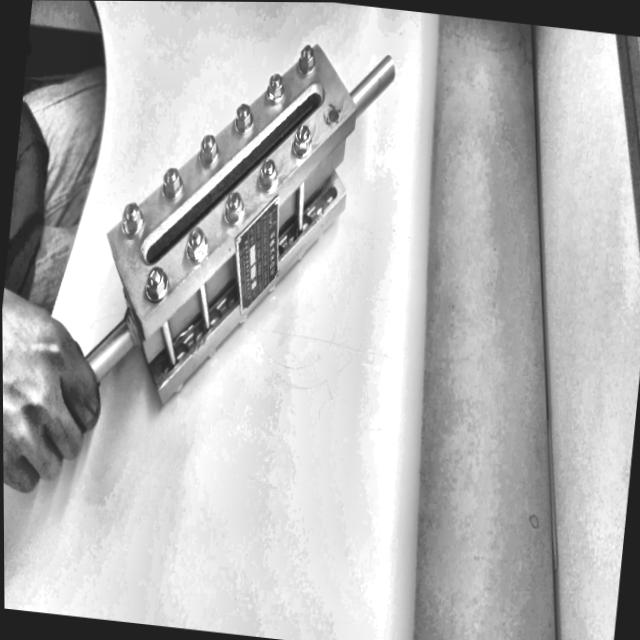ShuiWeiQi_11: (85, 0, 414, 398)
